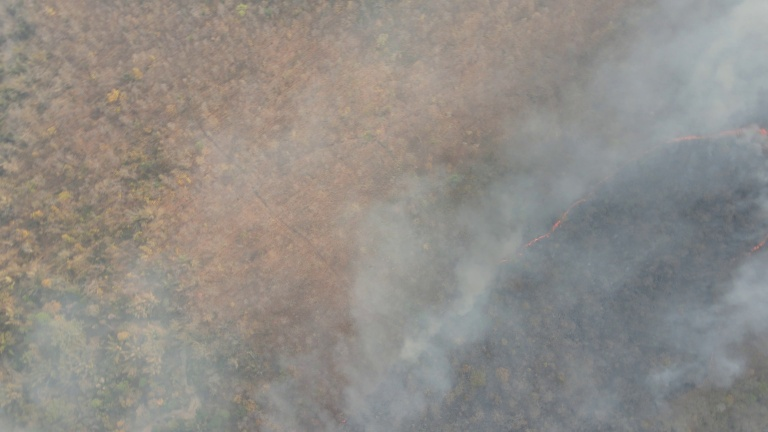fire: (491, 174, 617, 266), (639, 122, 768, 149), (744, 231, 768, 255)
smoke: (312, 185, 520, 426), (518, 1, 766, 172), (661, 253, 768, 399)
